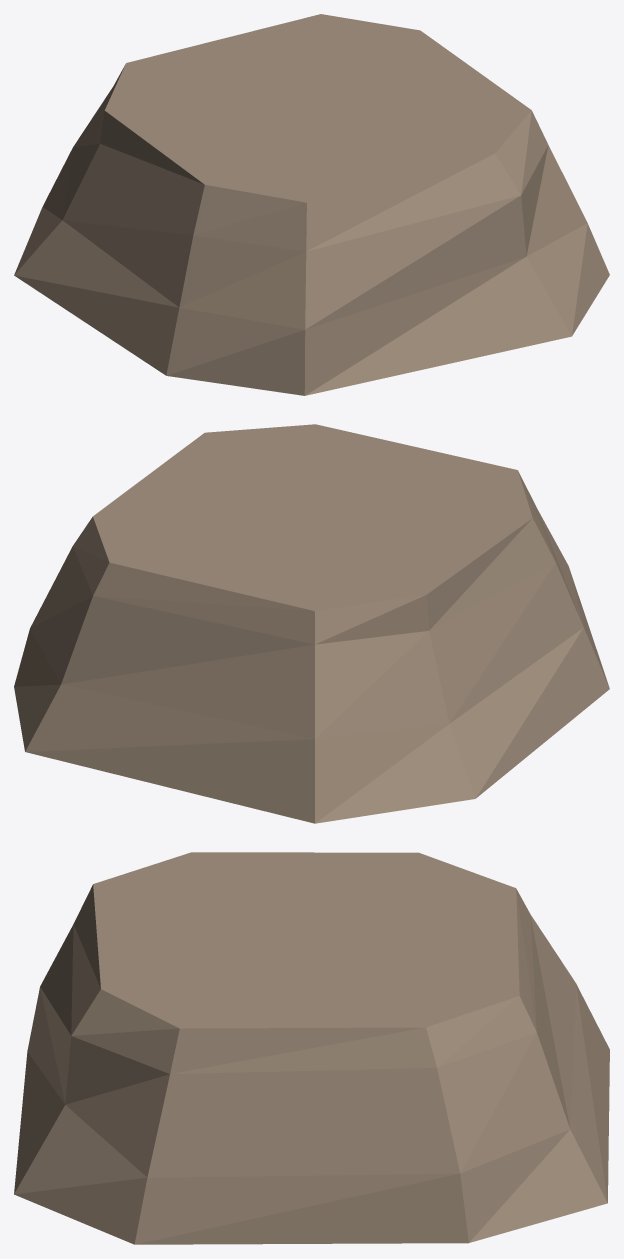
The model's file is magma_escape_rock_0.obj.
3 views of the same model, one above another, from view 1: azimuth 30°, elevation 25°; view 2: azimuth 150°, elevation 25°; view 3: azimuth 270°, elevation 25° (orthographic). The views are drawn at different scales.
Visible parts, largest first — view 1: magma_escape_rock_0; view 2: magma_escape_rock_0; view 3: magma_escape_rock_0.
Part boxes in pixels (x1=…): magma_escape_rock_0: x1=14, y1=14, x2=609, y2=395; magma_escape_rock_0: x1=14, y1=424, x2=609, y2=823; magma_escape_rock_0: x1=14, y1=852, x2=609, y2=1244.
Bounding box in the file's own units: 2.85 × 1 × 2.93.
